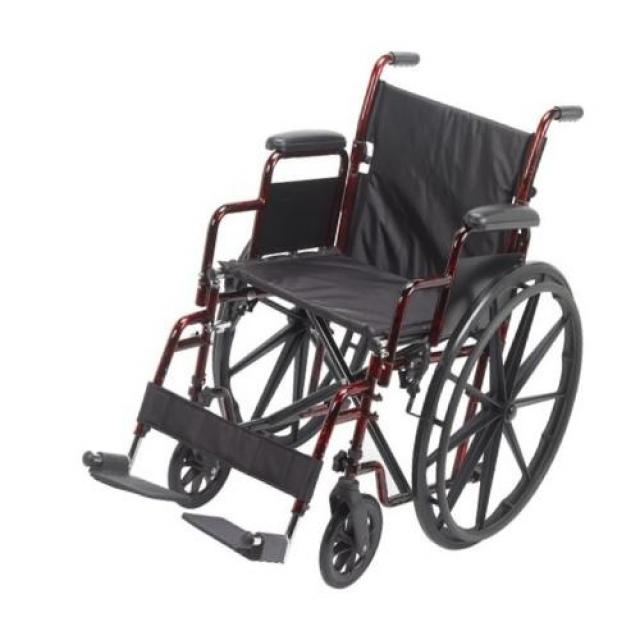wheelchair: (80, 44, 608, 592)
